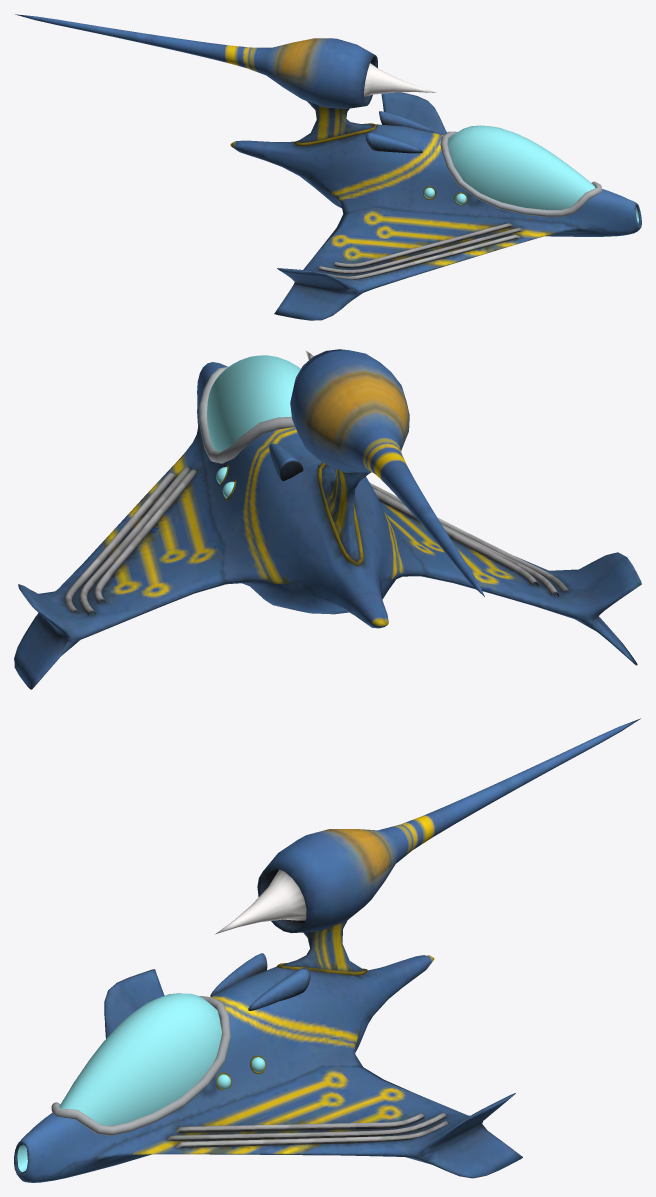
File: p1_wedge.fbx
The picture shows the model from 3 angles, top to bottom: view 1: azimuth 30°, elevation 25°; view 2: azimuth 150°, elevation 25°; view 3: azimuth 270°, elevation 25°; orthographic projection. The views are drawn at different scales.
Visible parts, largest first — view 1: node_id7 (×3); view 2: node_id7 (×2); view 3: node_id7 (×3).
Boxes of the visible parts, left/top/right/bottom form: node_id7 (×3): left=15, top=14, right=641, bottom=320; node_id7 (×2): left=14, top=349, right=641, bottom=689; node_id7 (×3): left=14, top=718, right=640, bottom=1182.
Bounding box in the file's own units: 0.6172 × 0.2983 × 0.6147.
Materials: 3 (1 with a texture image).
